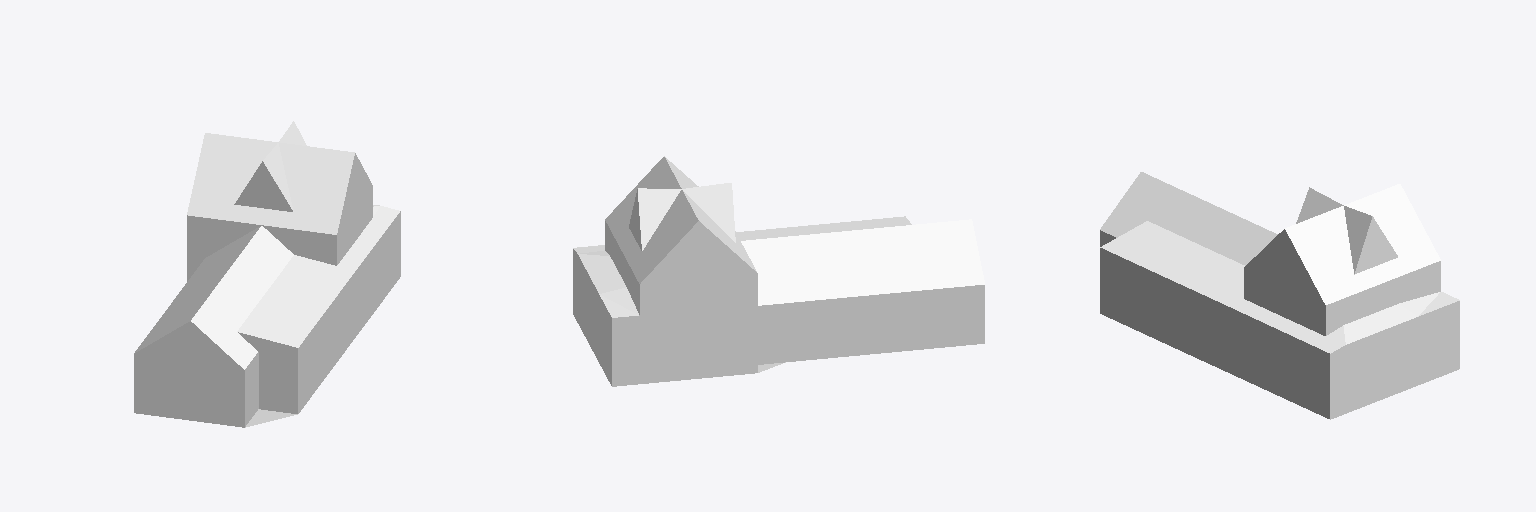
Rendered from house_Shape 289.obj.
3 views of the same model, side by side, from view 1: azimuth 30°, elevation 25°; view 2: azimuth 150°, elevation 25°; view 3: azimuth 270°, elevation 25° (orthographic).
Visible parts, largest first — view 1: CityEngineMaterial_38, CityEngineMaterial_136, CityEngineMaterial_134, CityEngineMaterial_191; view 2: CityEngineMaterial_38, CityEngineMaterial_134, CityEngineMaterial_136, CityEngineMaterial_191; view 3: CityEngineMaterial_38, CityEngineMaterial_134, CityEngineMaterial_136.
Part boxes in pixels (x1,y1,x2,y2): CityEngineMaterial_38: (134, 121, 399, 369); CityEngineMaterial_136: (134, 160, 372, 427); CityEngineMaterial_134: (298, 211, 400, 413); CityEngineMaterial_191: (159, 153, 358, 347); CityEngineMaterial_38: (573, 156, 984, 317); CityEngineMaterial_134: (573, 249, 984, 385); CityEngineMaterial_136: (605, 189, 757, 386); CityEngineMaterial_191: (640, 221, 757, 307); CityEngineMaterial_38: (1100, 172, 1459, 353); CityEngineMaterial_134: (1100, 248, 1459, 419); CityEngineMaterial_136: (1100, 216, 1440, 335).
Size of the model in its own units: 20.87 by 9.51 by 19.2.